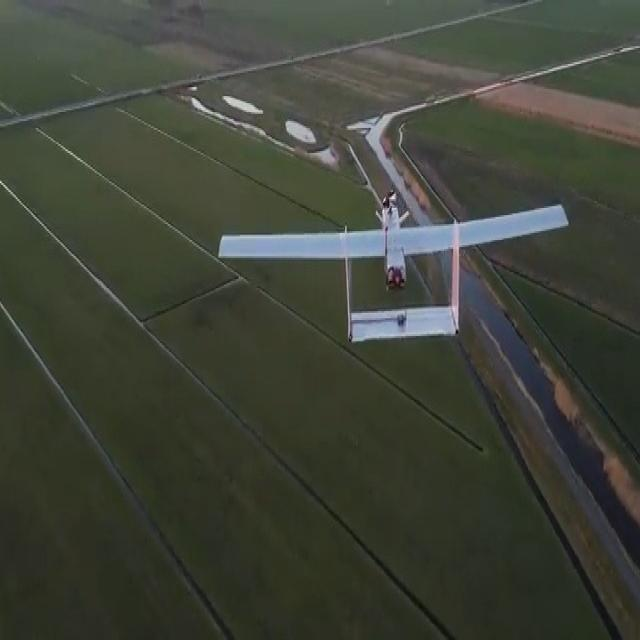drones: (208, 188, 572, 354)
